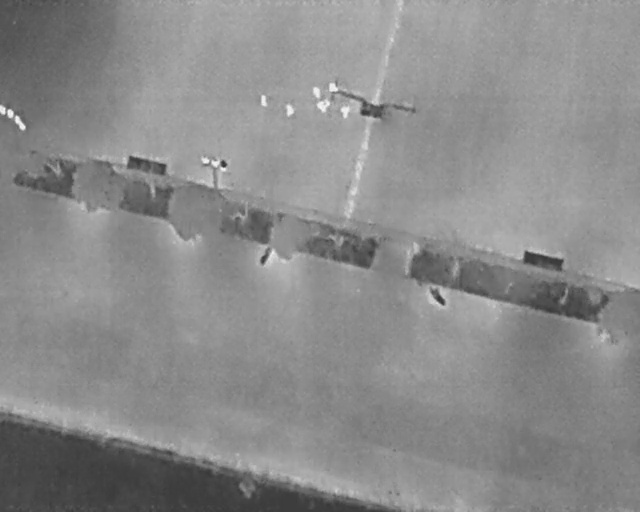Person: (318, 100, 329, 114), (340, 104, 350, 119), (286, 104, 295, 117), (260, 95, 268, 108), (329, 82, 336, 93), (313, 87, 320, 98)
